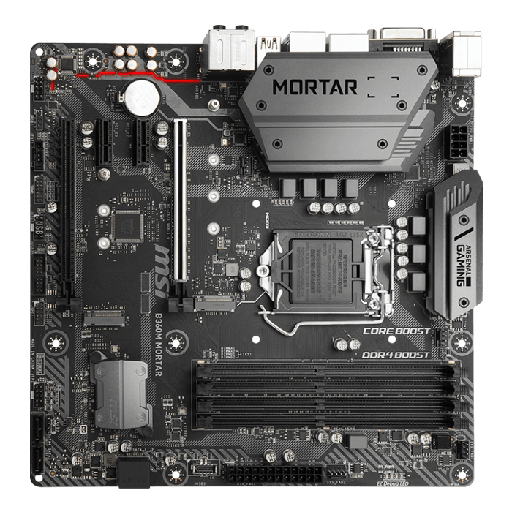CPU: (254, 222, 396, 319)
GPU: (169, 119, 190, 309), (61, 119, 80, 310)
MOTHERBOARD: (30, 26, 479, 486)
RAM: (192, 357, 461, 435)
SSD: (193, 291, 241, 314), (82, 309, 130, 329)
